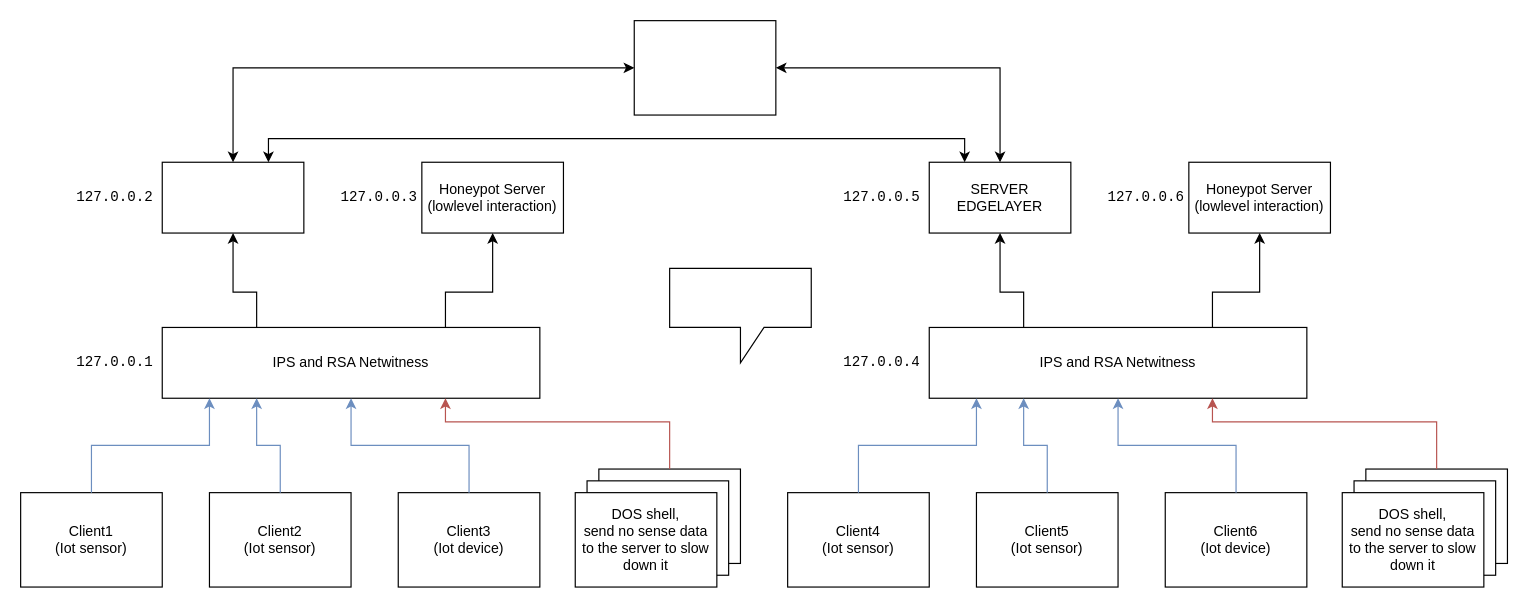
Some shapes in this 1528 by 608 pixel diagram are drawn without their labels. Here are the shapes that lost their labels. From the top down, the centre of each, then its label:
At pixel 704 67: "SERVER FOG LAYER".
At pixel 232 197: "SERVER EDGE LAYER".
At pixel 739 315: "WE COULD ALSO USE IDS".
